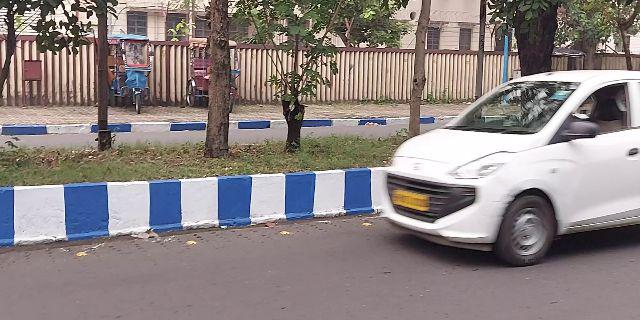Car: (382, 68, 640, 275)
